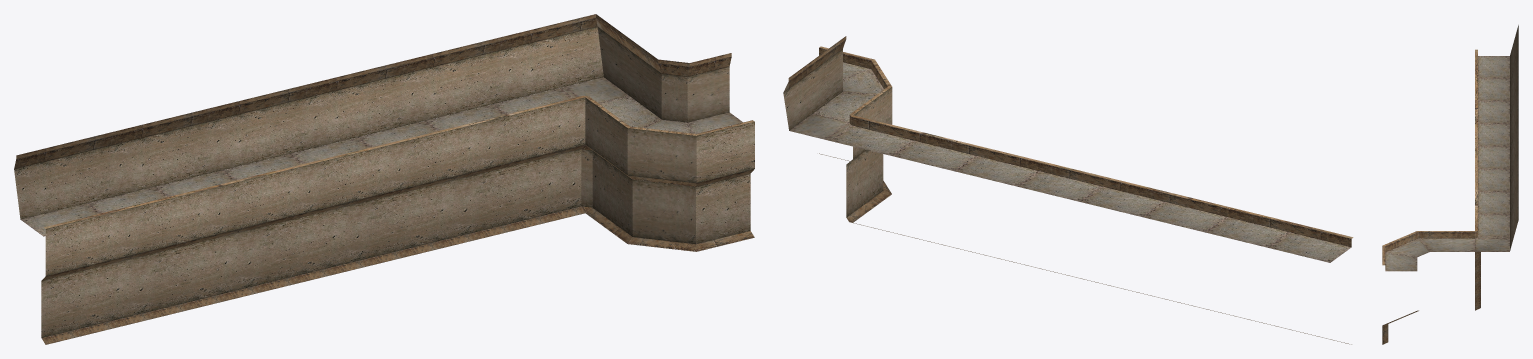
File: M11_CompWallOuter_E.glb
The picture shows the model from 3 angles, left to right: view 1: azimuth 30°, elevation 25°; view 2: azimuth 150°, elevation 25°; view 3: azimuth 270°, elevation 25°; orthographic projection. The views are drawn at different scales.
Parts seen in each view (by area): view 1: M11_COMPWALLOUTER_E; view 2: M11_COMPWALLOUTER_E; view 3: M11_COMPWALLOUTER_E.
Boxes of the visible parts, <box> form: M11_COMPWALLOUTER_E: <box>14,14,754,344</box>; M11_COMPWALLOUTER_E: <box>783,36,1353,344</box>; M11_COMPWALLOUTER_E: <box>1382,25,1518,344</box>.
Bounding box in the file's own units: 44 × 11 × 11.75.
Materials: 3 (3 with a texture image).
